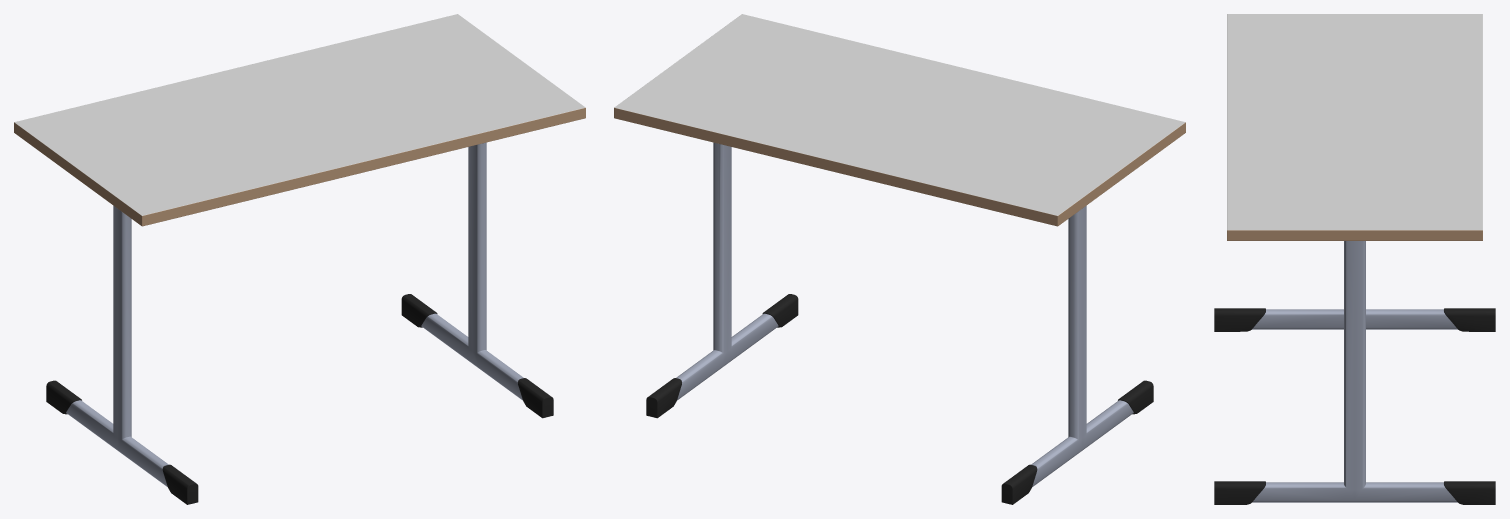
The model's file is TischModell.fbx.
3 views of the same model, side by side, from view 1: azimuth 30°, elevation 25°; view 2: azimuth 150°, elevation 25°; view 3: azimuth 270°, elevation 25° (orthographic).
Parts seen in each view (by area): view 1: Tisch; view 2: Tisch; view 3: Tisch.
Part boxes in pixels (bbox=[...]): Tisch: bbox=[14, 14, 585, 504]; Tisch: bbox=[614, 14, 1185, 504]; Tisch: bbox=[1214, 14, 1495, 504].
Bounding box in the file's own units: 130 × 82.25 × 71.49.
